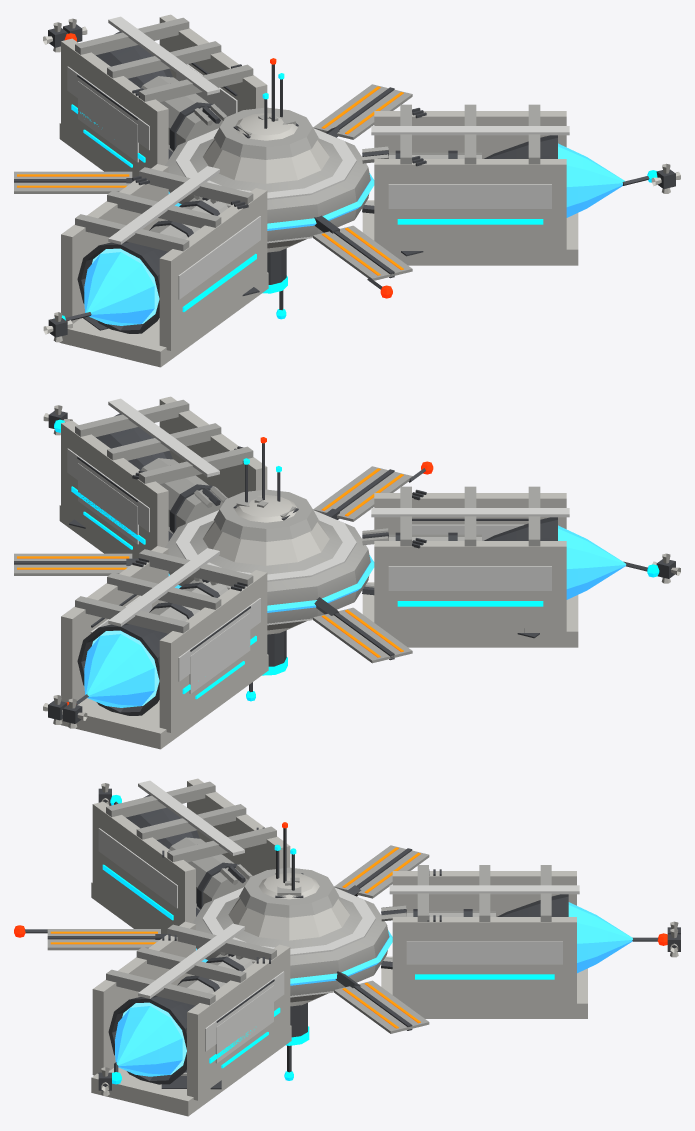
Rendered from drive_works.glb.
3 renders of one model, top to bottom at view 1: azimuth 30°, elevation 25°; view 2: azimuth 150°, elevation 25°; view 3: azimuth 270°, elevation 25°, orthographic. The views are drawn at different scales.
Visible parts, largest first — view 1: drive_works; view 2: drive_works; view 3: drive_works.
Boxes of the visible parts, x1,y1,x2,y2 form: drive_works: [14, 14, 680, 367]; drive_works: [14, 396, 680, 749]; drive_works: [14, 778, 680, 1116].
Bounding box in the file's own units: 1.64 × 0.655 × 1.56.
